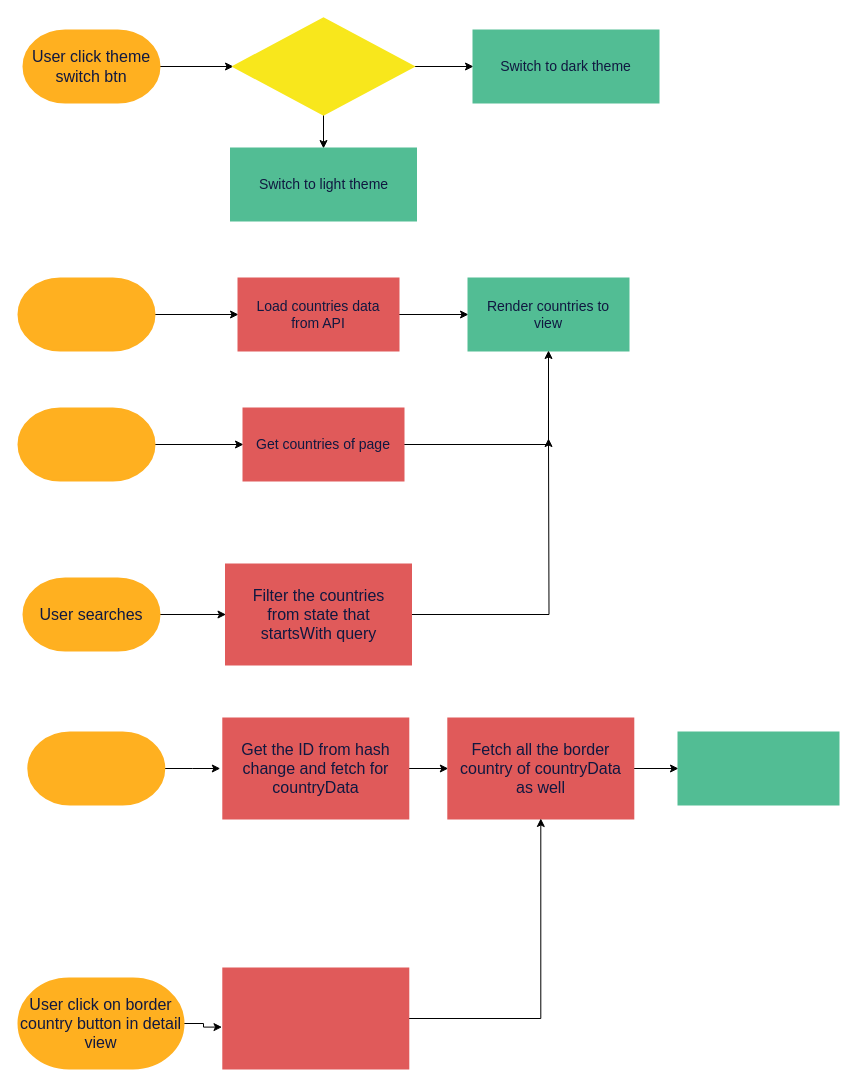
The diagram is 856 pixels wide and 1086 high, and some of its shapes have lost their labels. Each missing label, with the box of its shape:
Get border country data already fetched in state to use as countryData: (222, 967, 409, 1069)
Page load: (17, 277, 155, 351)
Render countryData to view: (677, 731, 839, 805)
Theme === light ?: (232, 17, 414, 115)
User click on country card: (27, 731, 165, 805)
User click pagination btn: (17, 407, 155, 481)
